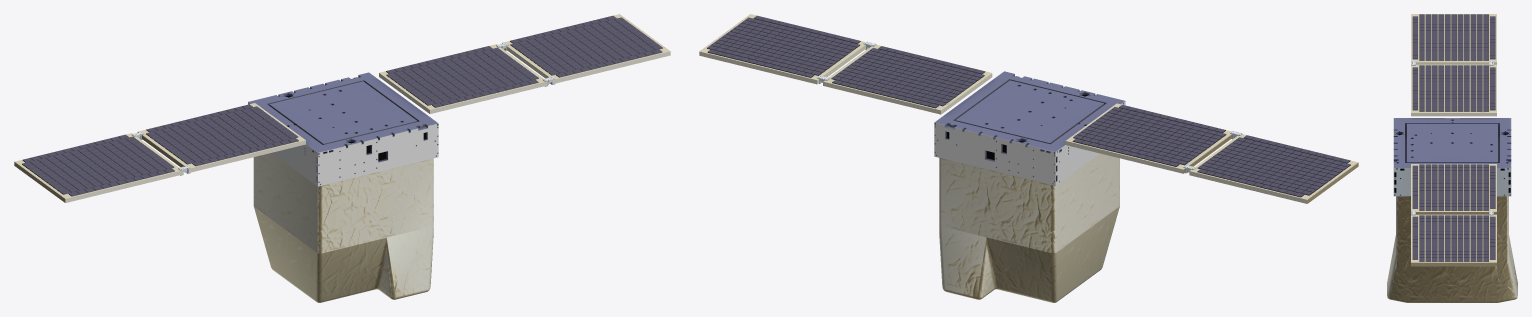
Rendered from base_satellite.glb.
The picture shows the model from 3 angles, left to right: view 1: azimuth 30°, elevation 25°; view 2: azimuth 150°, elevation 25°; view 3: azimuth 270°, elevation 25°; orthographic projection. The views are drawn at different scales.
Parts seen in each view (by area): view 1: VX648141375; view 2: VX648141375; view 3: VX648141375.
Boxes of the visible parts, bbox=[...] form: VX648141375: bbox=[14, 14, 670, 302]; VX648141375: bbox=[699, 14, 1358, 302]; VX648141375: bbox=[1387, 14, 1517, 302].
Bounding box in the file's own units: 0.9614 × 0.2573 × 0.2134.
1 material, 1 textured.
